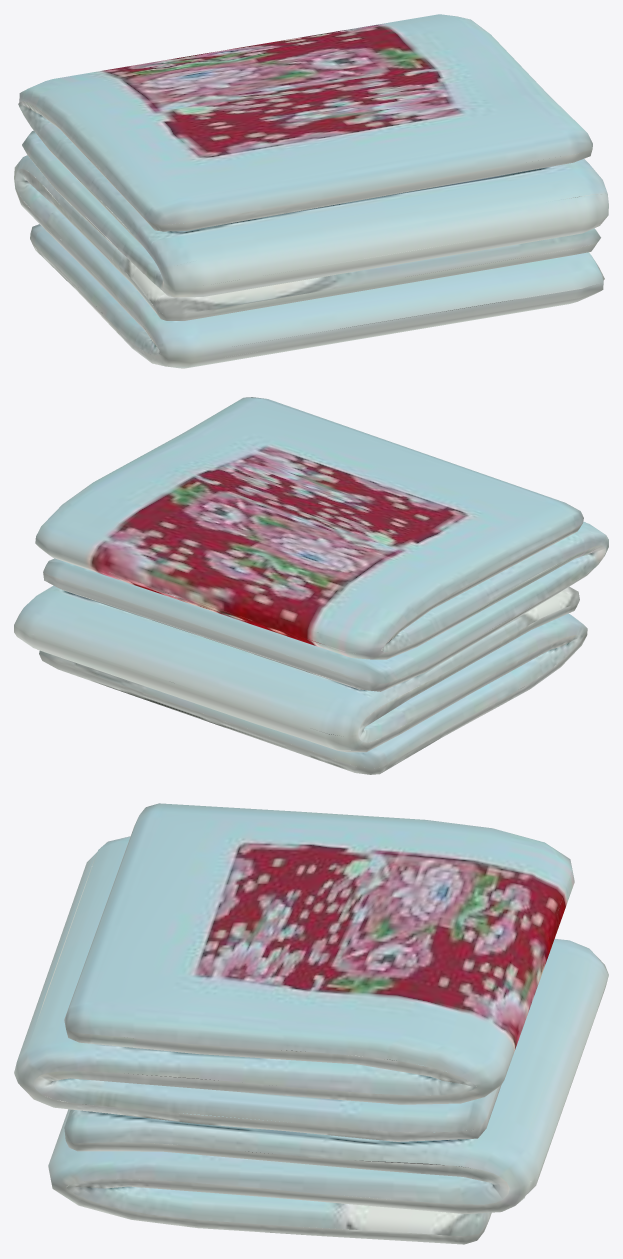
Rendered from bedding.glb.
3 views of the same model, one above another, from view 1: azimuth 30°, elevation 25°; view 2: azimuth 150°, elevation 25°; view 3: azimuth 270°, elevation 25° (orthographic). The views are drawn at different scales.
Parts seen in each view (by area): view 1: bedding; view 2: bedding; view 3: bedding.
Boxes of the visible parts, bbox=[...] form: bedding: bbox=[14, 14, 608, 368]; bedding: bbox=[14, 397, 608, 774]; bedding: bbox=[14, 803, 608, 1244].
Bounding box in the file's own units: 0.7868 × 0.2993 × 0.7571.
Materials: 1 (1 with a texture image).
